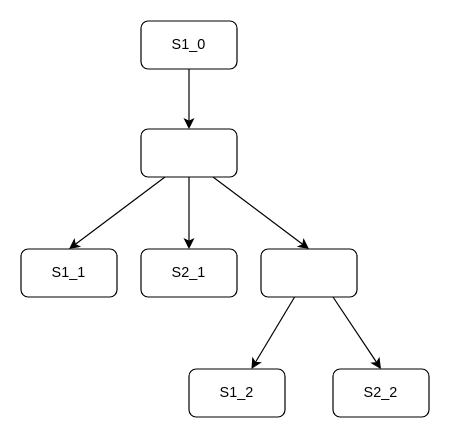
This 450x438 diagram has some shape labels left out. Each missing label, with the box of its shape:
S2_0: (140, 128, 237, 177)
S3_0: (260, 248, 357, 297)
